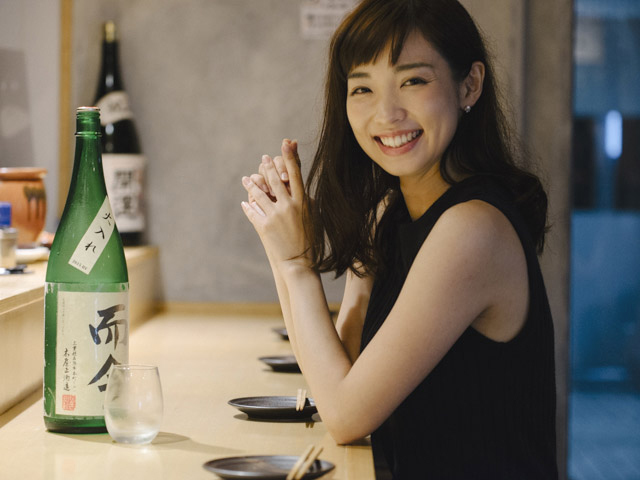face: (346, 25, 486, 177)
hand: (241, 140, 316, 263)
